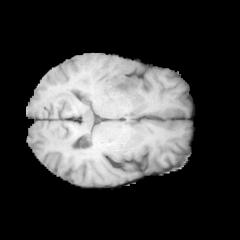glioma: (77, 54, 141, 99)
